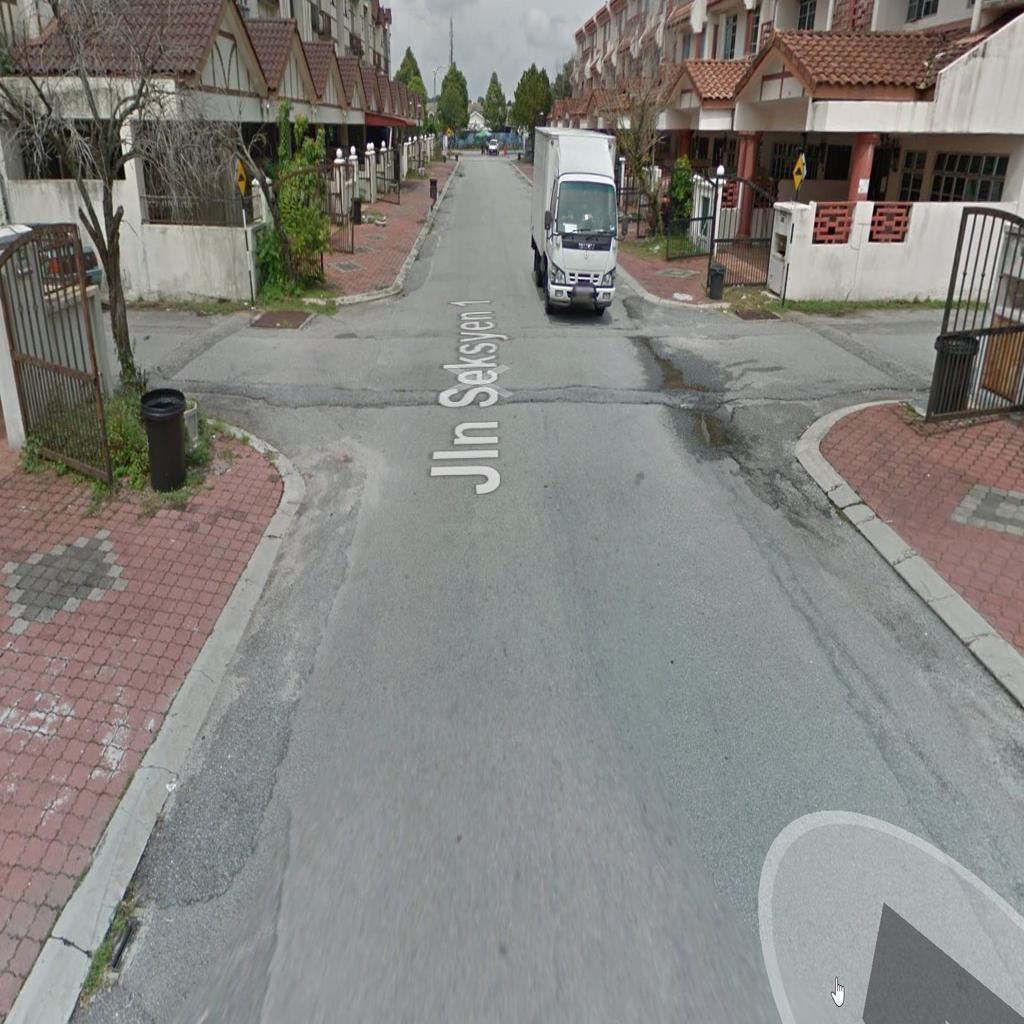Junction: (62, 257, 418, 505), (668, 270, 972, 467)
